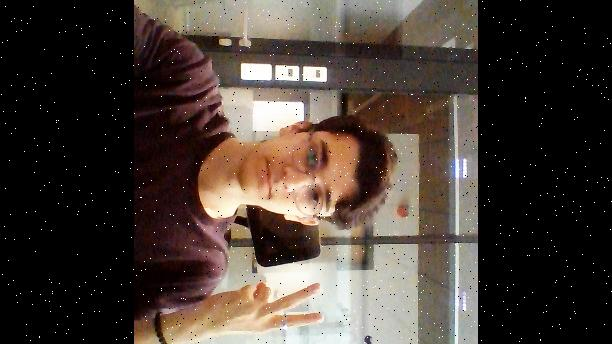Scissors: (204, 278, 326, 340)
